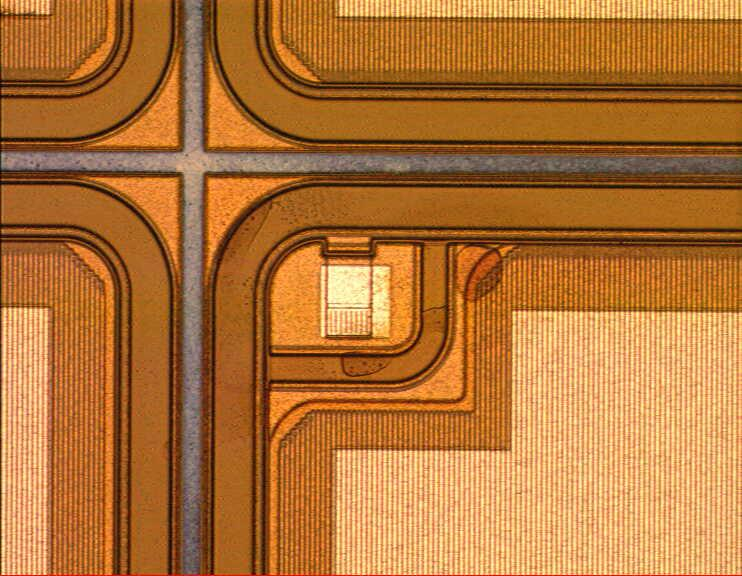SEZ BURNT: (205, 189, 509, 382)
